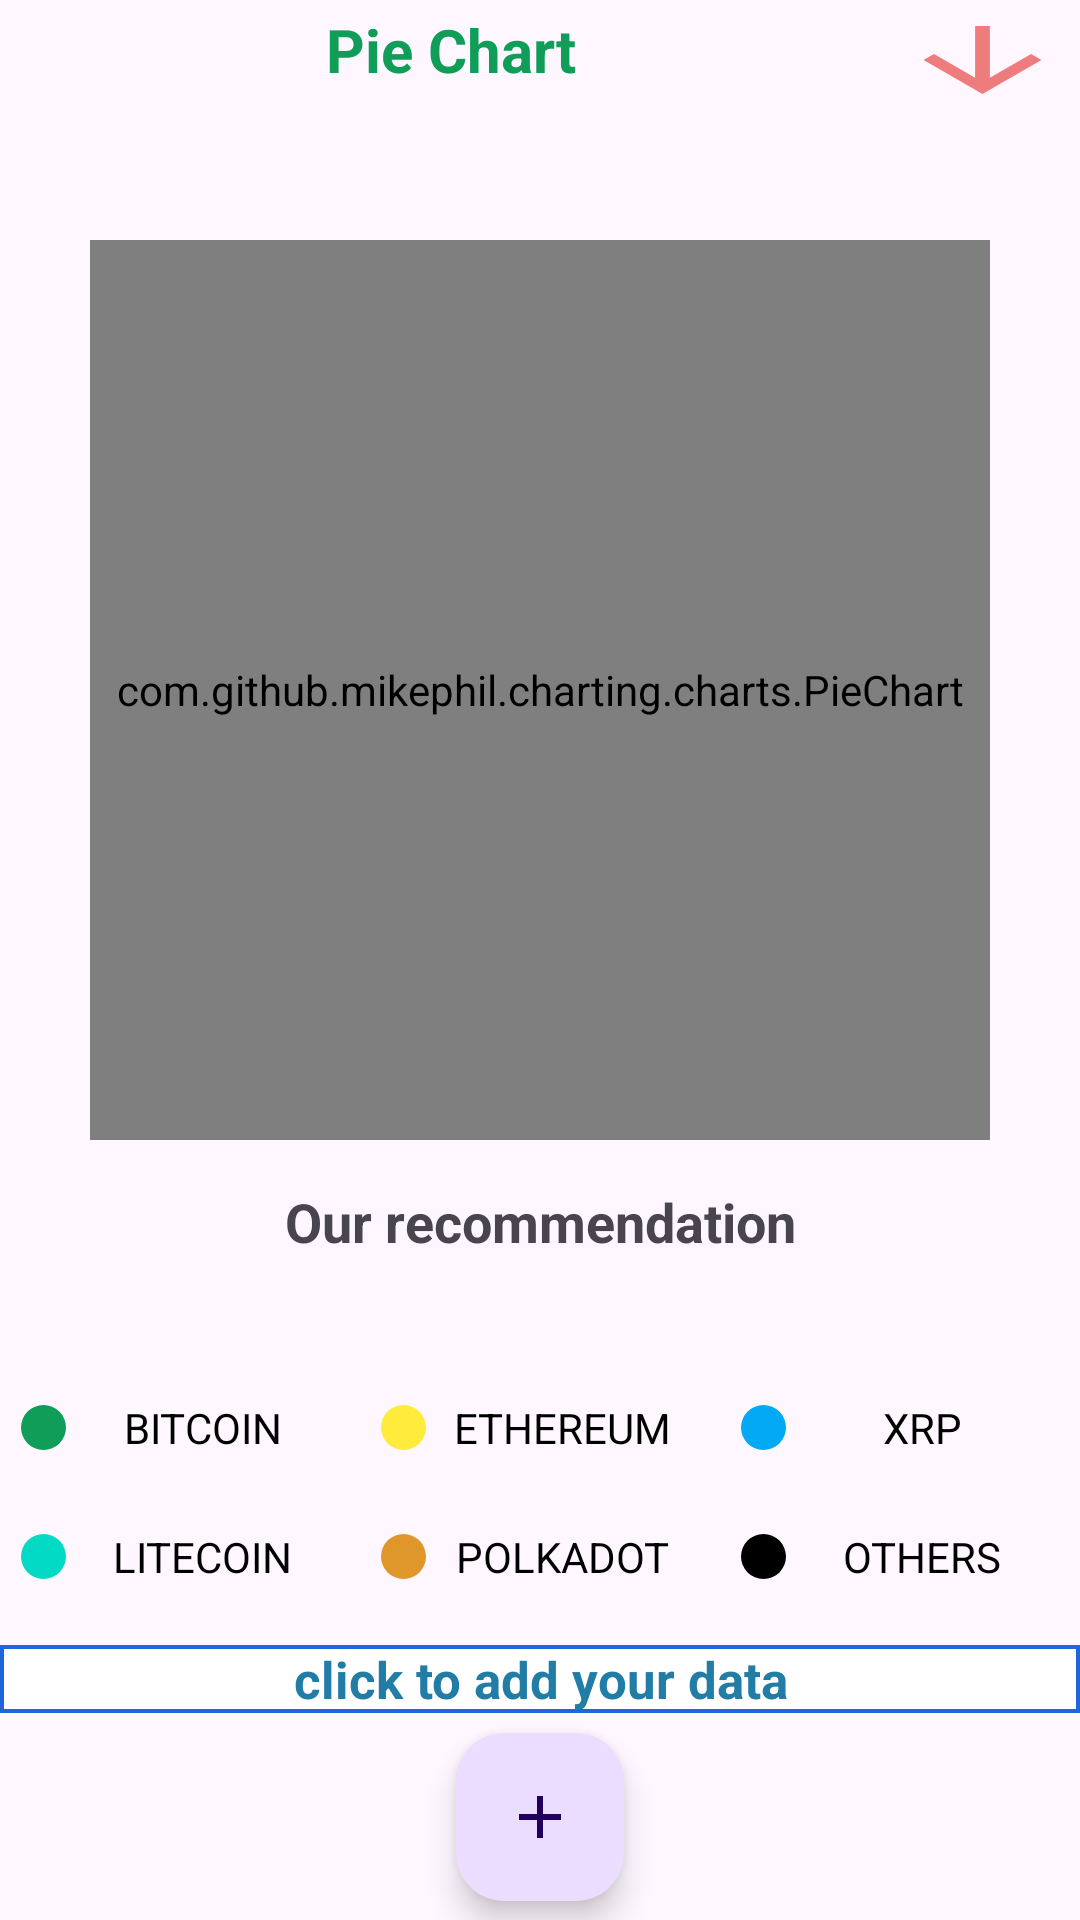

Icon bounding boxes for this 1080x1920 phone screenshot, format {"x1": x1, "y1": y1, "x2": x2, "y2": y2}:
arrow downward: {"x1": 924, "y1": 26, "x2": 1041, "y2": 94}
